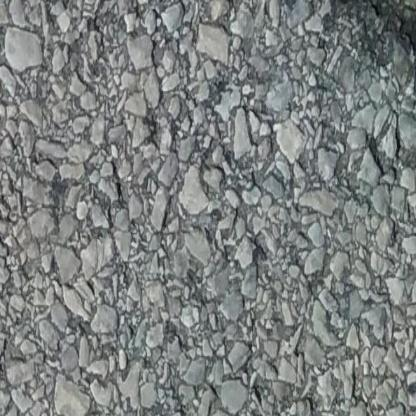Cracks: (330, 0, 416, 63)
